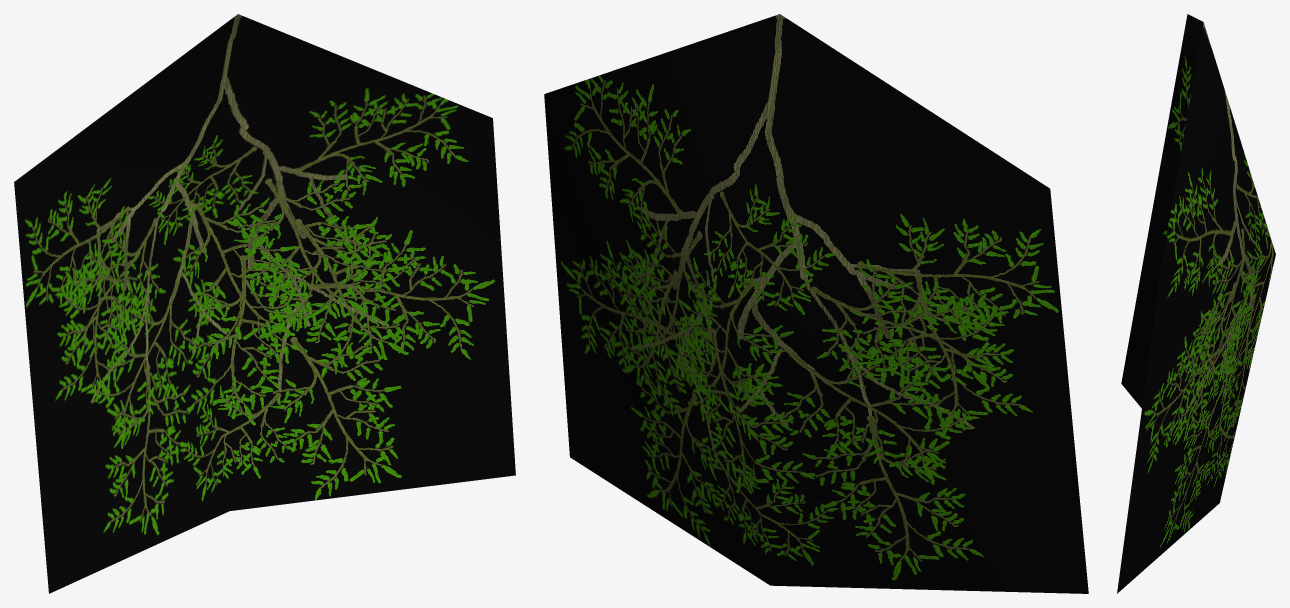
Rendered from LeafMesh12.fbx.
The picture shows the model from 3 angles, left to right: view 1: azimuth 30°, elevation 25°; view 2: azimuth 150°, elevation 25°; view 3: azimuth 270°, elevation 25°; orthographic projection. The views are drawn at different scales.
Parts seen in each view (by area): view 1: LeafMesh1; view 2: LeafMesh1; view 3: LeafMesh1.
Boxes of the visible parts, box(x1,y1,x2,y2) form: LeafMesh1: box(14, 14, 515, 593); LeafMesh1: box(544, 14, 1088, 593); LeafMesh1: box(1117, 14, 1275, 593).
Bounding box in the file's own units: 2 × 2.07 × 0.6195.
